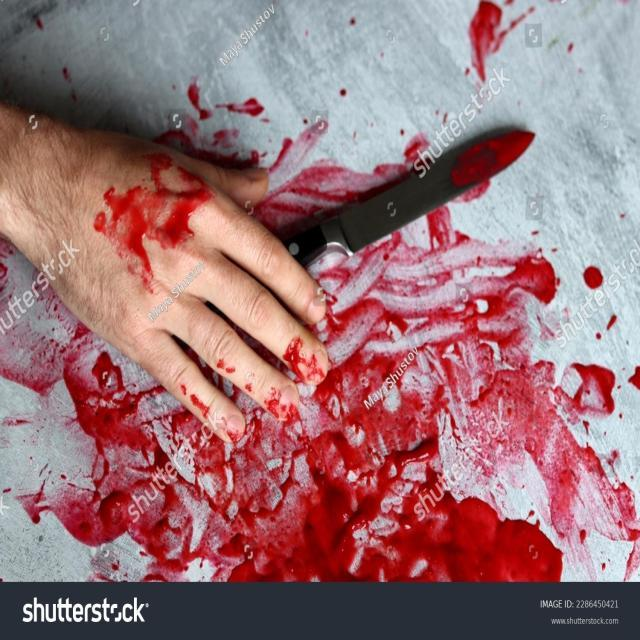flood: (93, 74, 595, 580)
